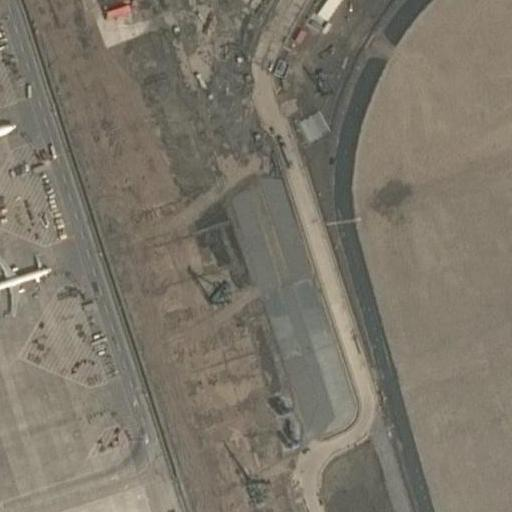Aircraft: (0, 246, 49, 317), (0, 82, 14, 188)
